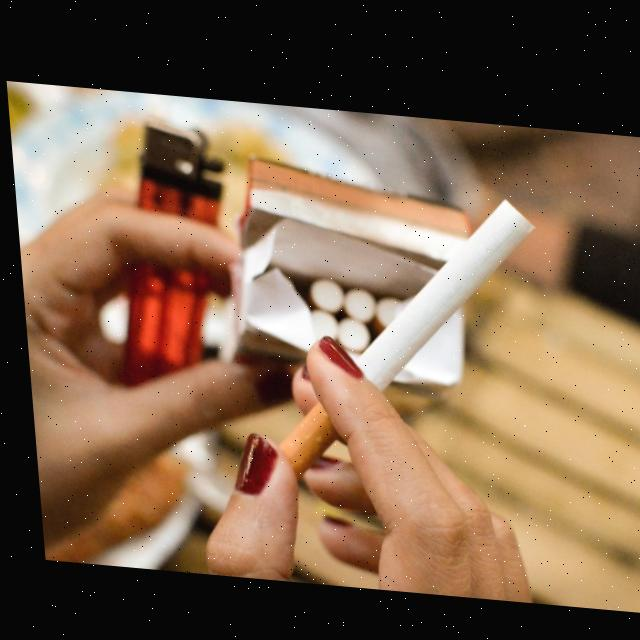cigarette: (254, 171, 551, 495)
